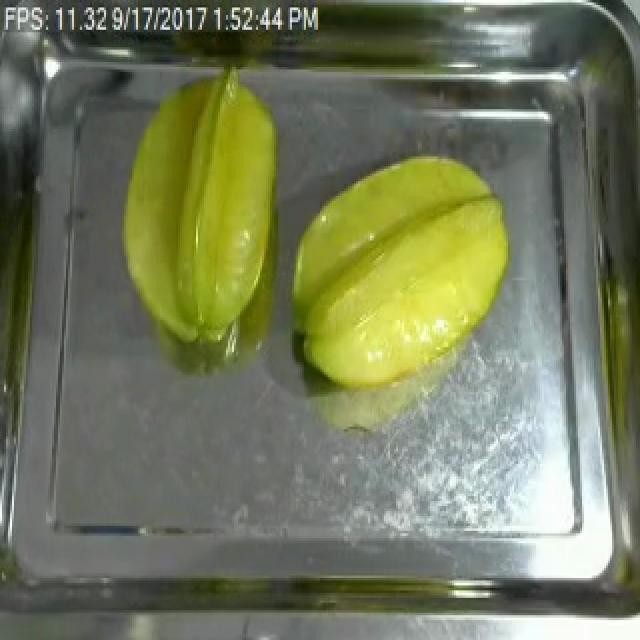fruit: (278, 141, 524, 402), (106, 59, 292, 354)
